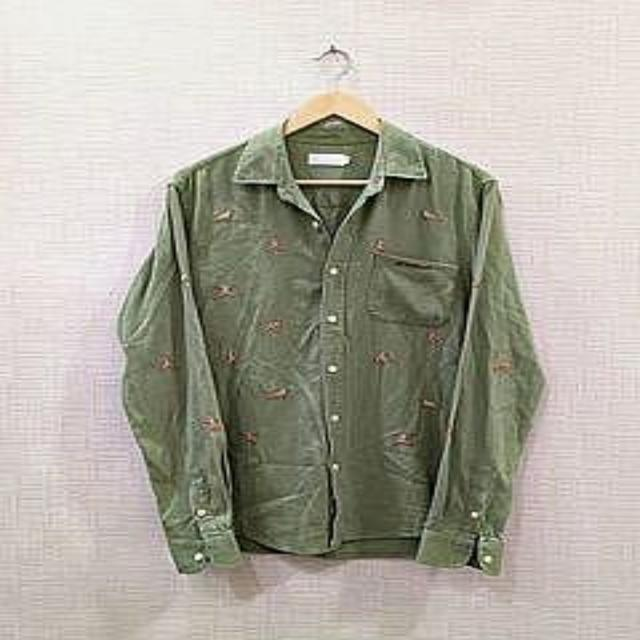SHIRT: (103, 109, 558, 586)
